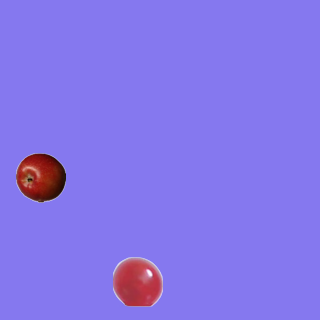Apple Braeburn: (15, 152, 65, 202)
Redcurrant: (112, 256, 162, 306)
